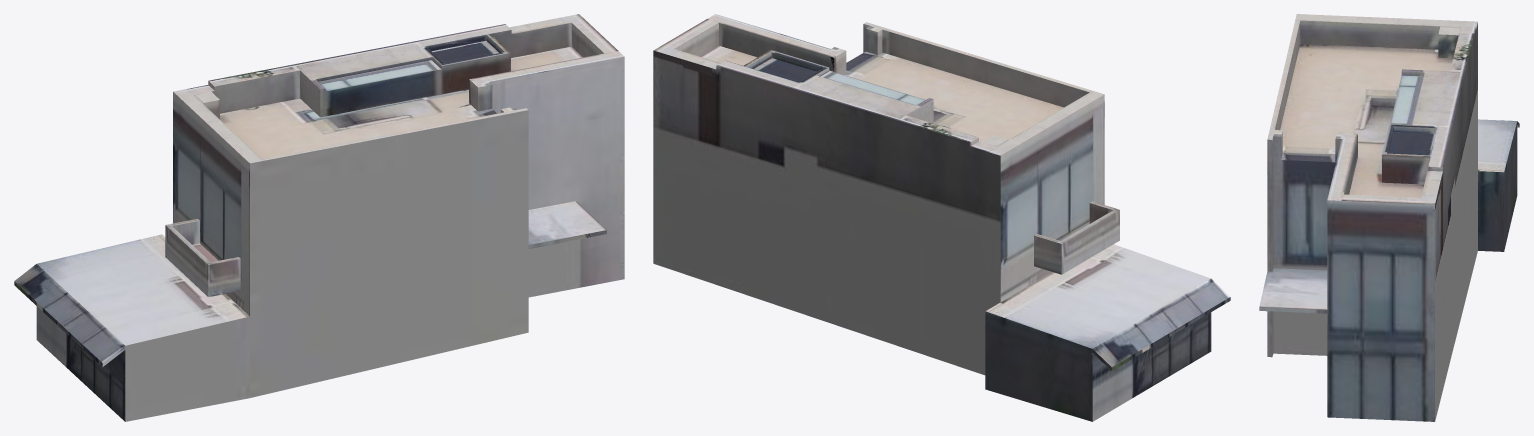
3 renders of one model, left to right at view 1: azimuth 30°, elevation 25°; view 2: azimuth 150°, elevation 25°; view 3: azimuth 270°, elevation 25°, orthographic. The views are drawn at different scales.
Visible parts, largest first — view 1: B285764038401062A0; view 2: B285764038401062A0; view 3: B285764038401062A0.
Part boxes in pixels (x1,y1,x2,y2): B285764038401062A0: (14,14,624,421); B285764038401062A0: (653,14,1230,421); B285764038401062A0: (1259,14,1519,421).
Size of the model in its own units: 20.81 by 8.81 by 8.91.
1 material, 1 textured.
